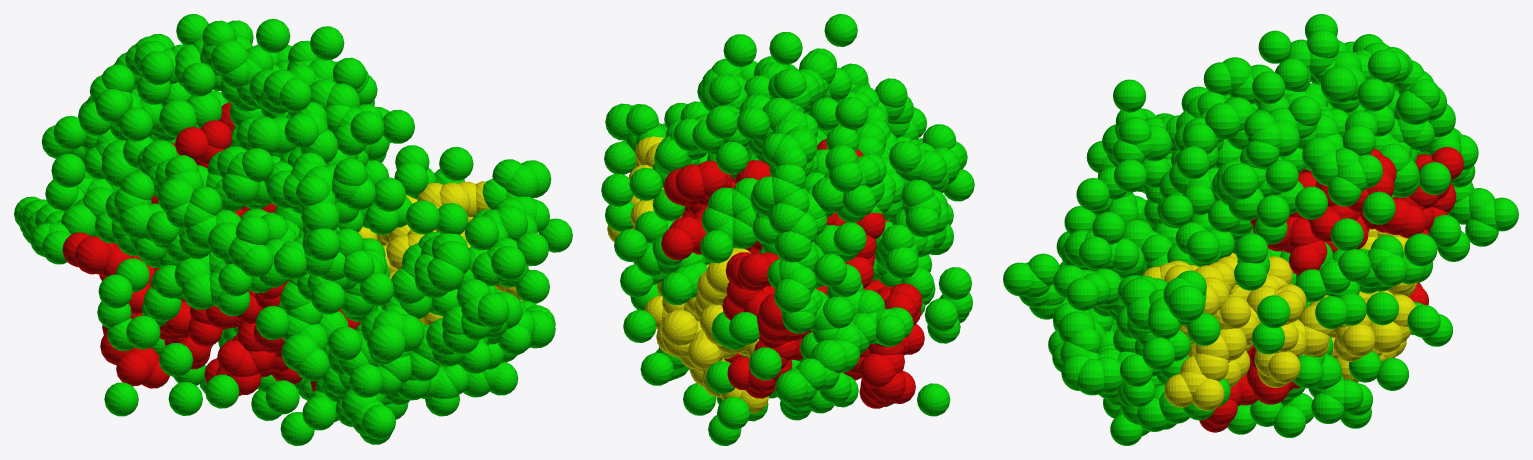
File: 1lyz__spheres__secondary-structure.glb
3 renders of one model, left to right at view 1: azimuth 30°, elevation 25°; view 2: azimuth 150°, elevation 25°; view 3: azimuth 270°, elevation 25°, orthographic. The views are drawn at different scales.
Parts seen in each view (by area): view 1: Renderer Node; view 2: Renderer Node; view 3: Renderer Node.
Part boxes in pixels (x1,y1,x2,y2): Renderer Node: [14, 14, 572, 445]; Renderer Node: [601, 14, 974, 445]; Renderer Node: [1003, 14, 1518, 445].
Size of the model in its own units: 42.59 by 40.17 by 47.23.
